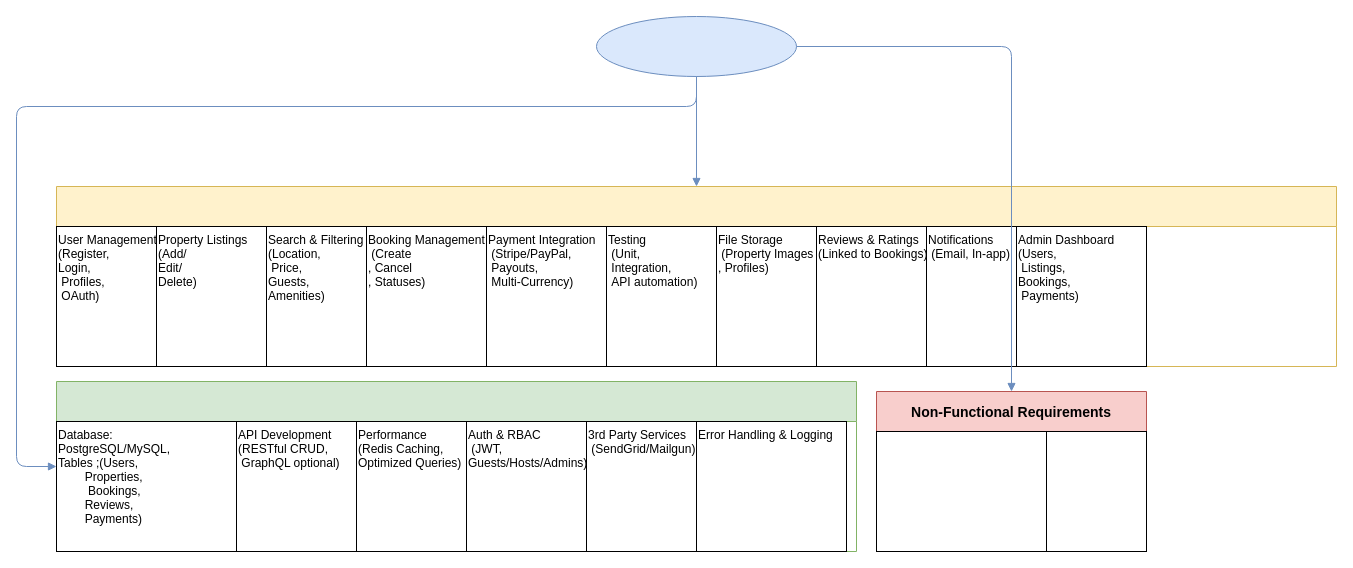
This 1353x568 diagram has some shape labels left out. Here are the shapes that lost their labels. From the top down, the box of each, then its label:
(596, 16, 796, 76): Airbnb Clone Backend
(56, 186, 1336, 366): Core Functionalities
(56, 380, 856, 552): Technical Requirements
(876, 430, 1046, 552): Scalability (Modular, Load Balancers)
(1046, 430, 1146, 552): Security (Encryption, Firewalls, Rate Limiting)
